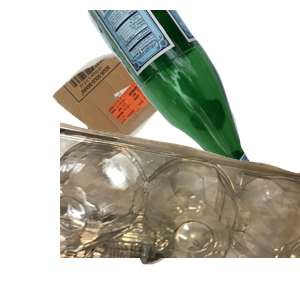cardboard: (50, 38, 233, 184)
glass: (75, 10, 300, 190)
plastic: (60, 120, 300, 300)
trash: (69, 153, 239, 300)
